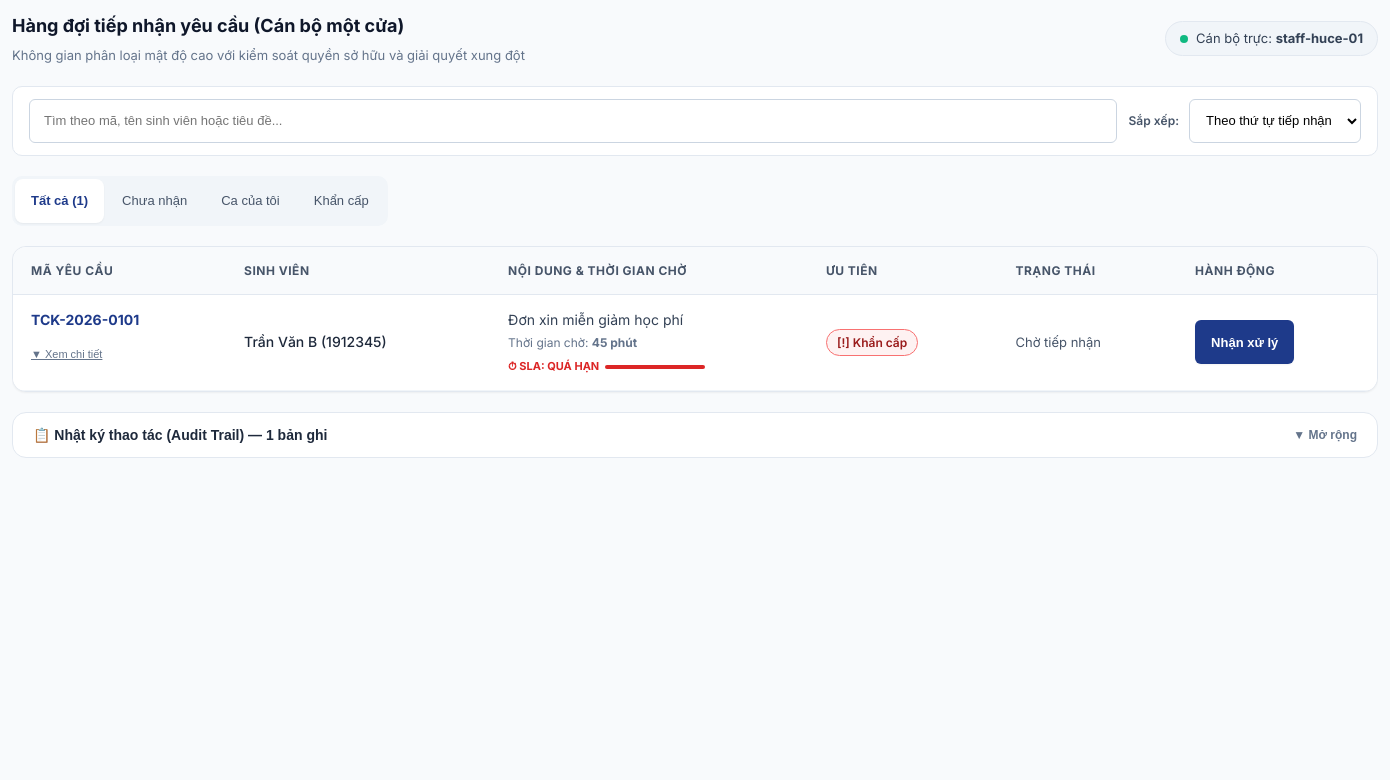
Test case: StaffTicketQueue Enhanced Checklist & AI Support › displays student attached documents with OCR verification badge in expanded view
The width and height of the screenshot is (1390, 780).
Click the button with aria-label "Chi tiết TCK-2026-0101".
click(67, 354)  # box x1=31 y1=332 x2=102 y2=376
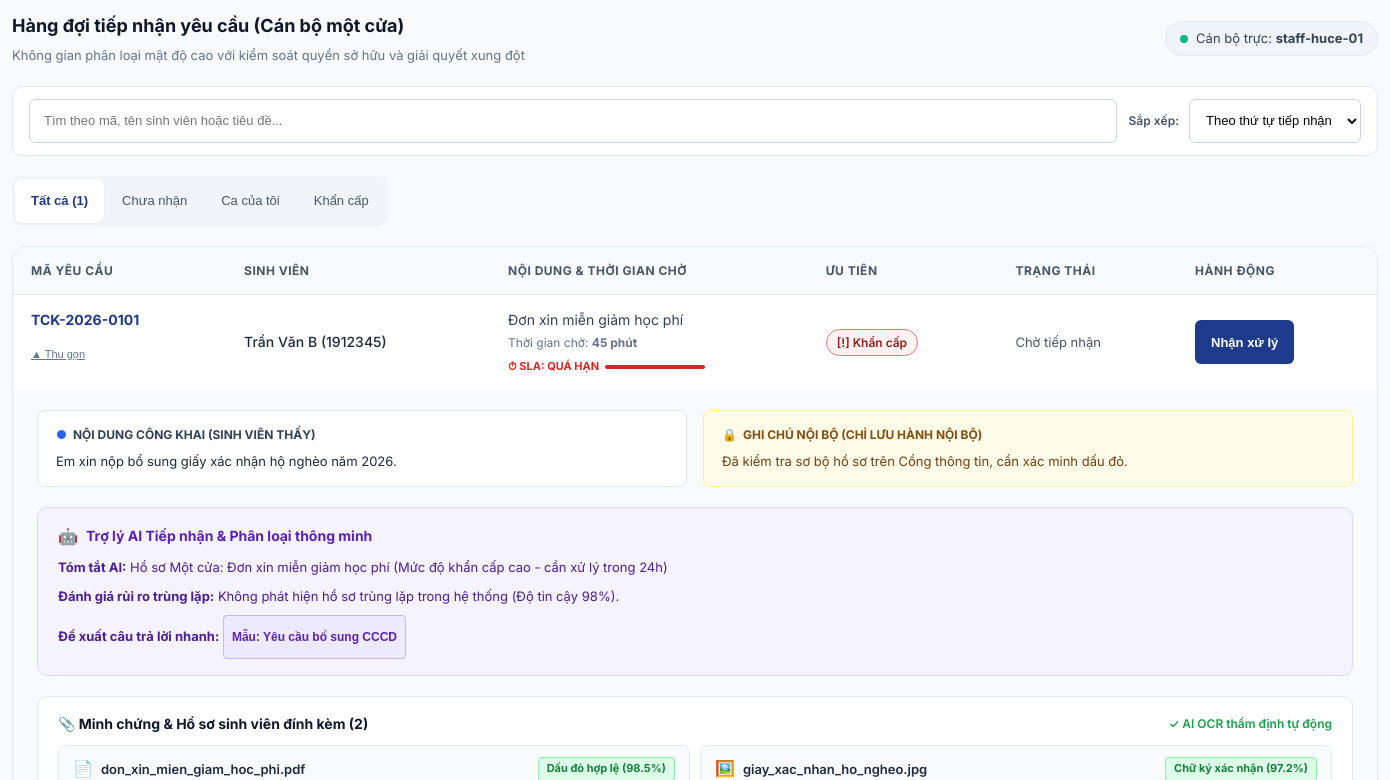
Result: the heading "📎 Minh chứng & Hồ sơ sinh viên đính kèm (2)" is shown at x1=58 y1=713 x2=368 y2=735
Result: the text "don_xin_mien_giam_hoc_phi.pdf" is shown at x1=101 y1=759 x2=305 y2=779
Result: the text "Dấu đỏ hợp lệ (98.5%)" is shown at x1=538 y1=757 x2=675 y2=779
